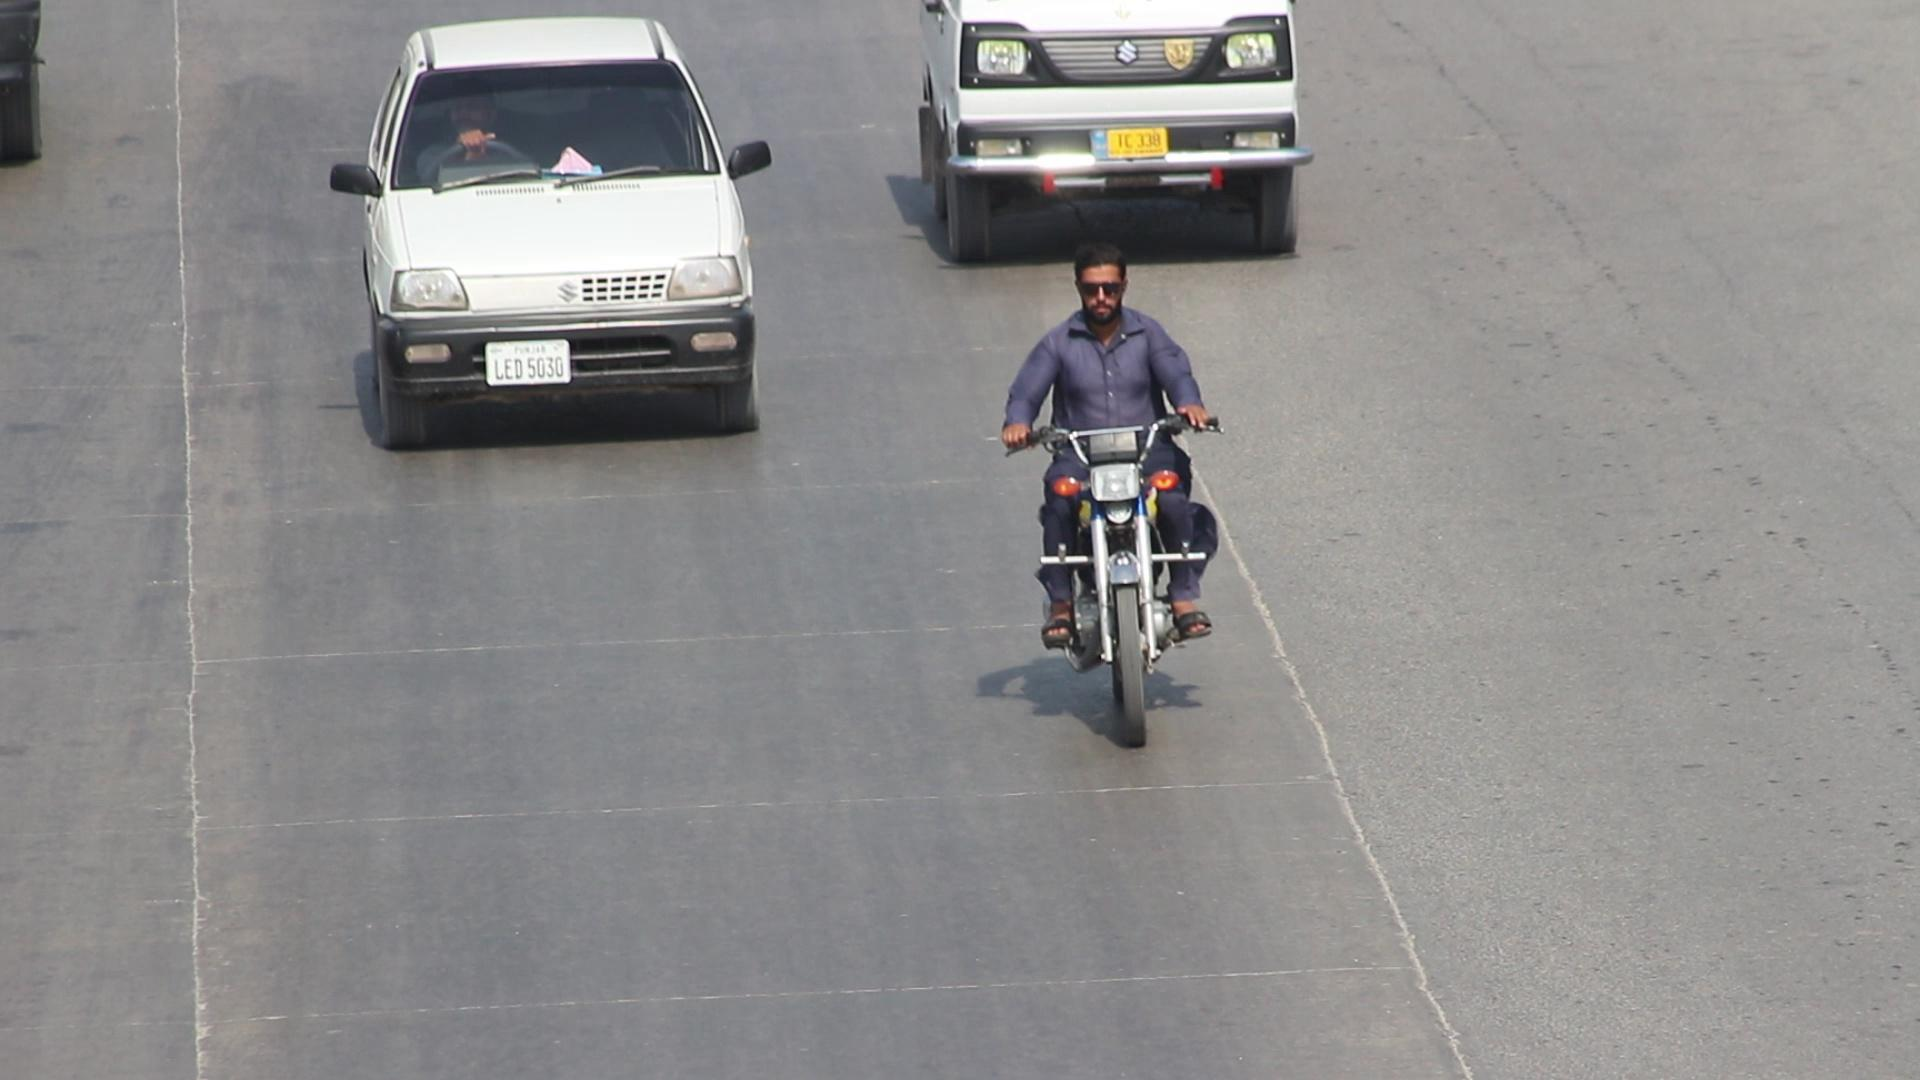windshield: (390, 61, 724, 196)
